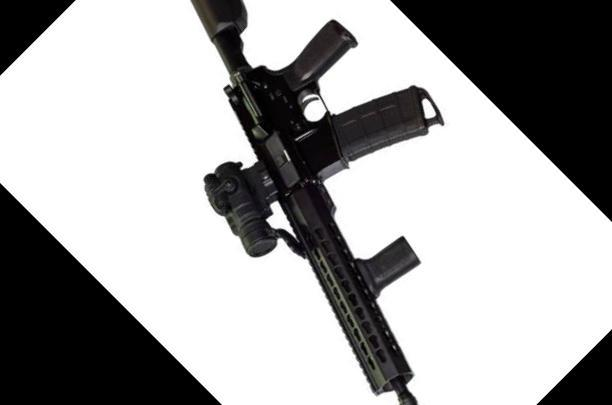larga: (190, 1, 446, 405)
